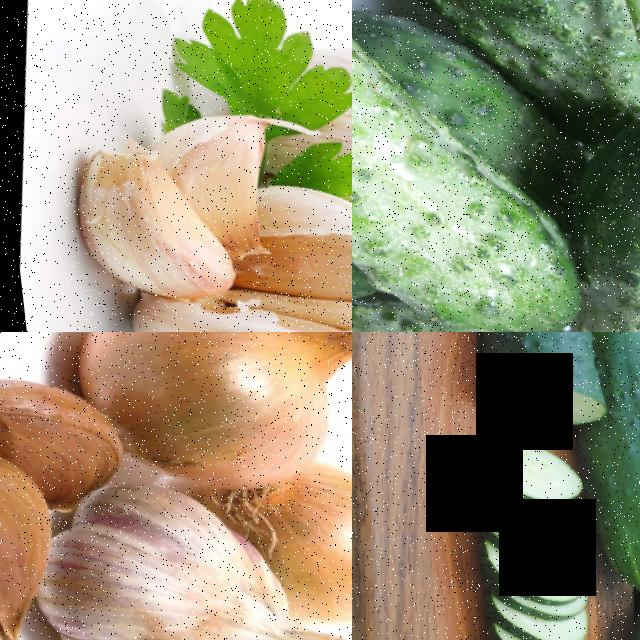cucumber: (352, 80, 592, 332), (525, 98, 640, 332), (352, 0, 633, 63), (454, 332, 631, 424), (558, 413, 640, 600)
garlic: (17, 488, 300, 640), (62, 142, 235, 307), (145, 101, 286, 261), (220, 205, 352, 311), (105, 276, 352, 332), (0, 368, 125, 473), (0, 446, 61, 640)
